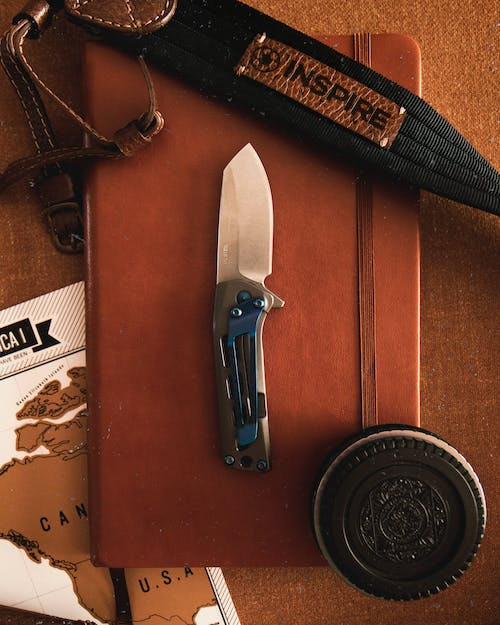knife: (213, 136, 284, 476)
